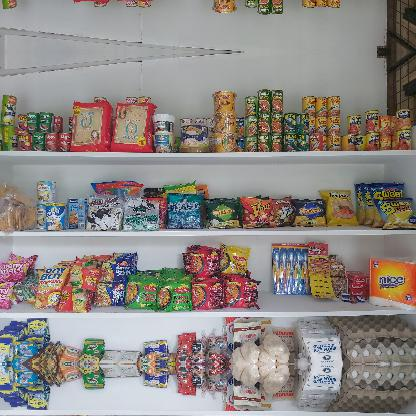Lady-s-Choice: (180, 122, 210, 152)
